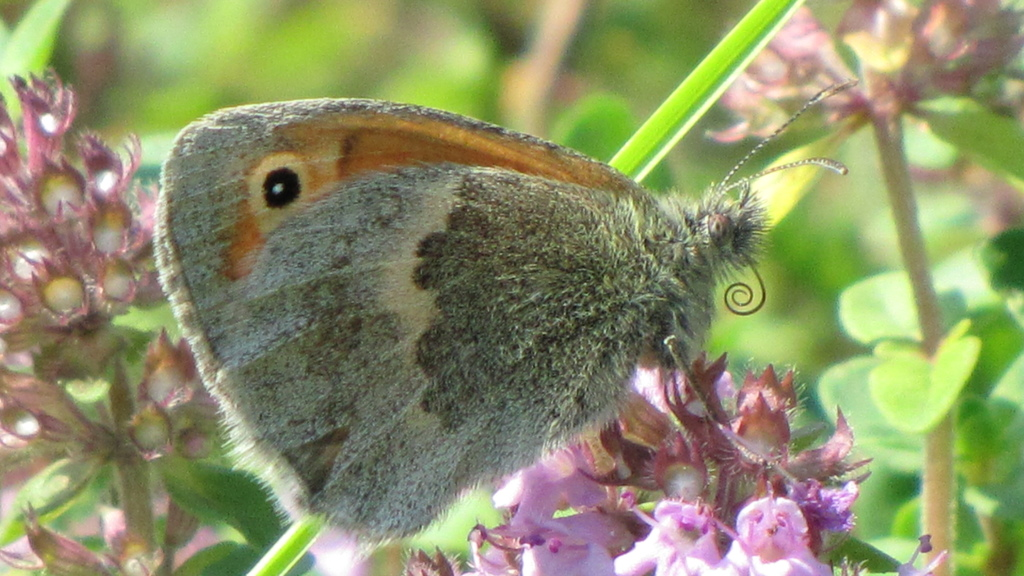Butterfly: (148, 78, 759, 545)
